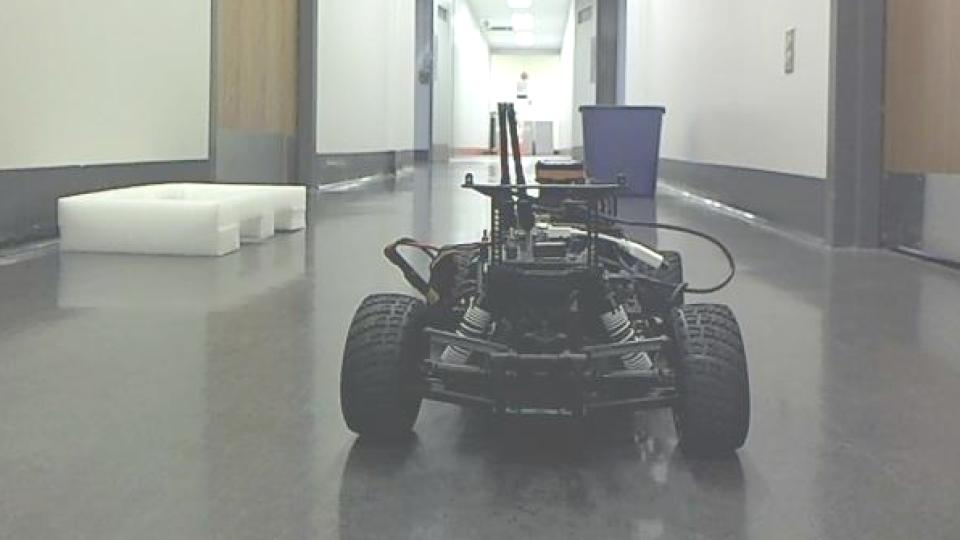car: (336, 100, 756, 461)
